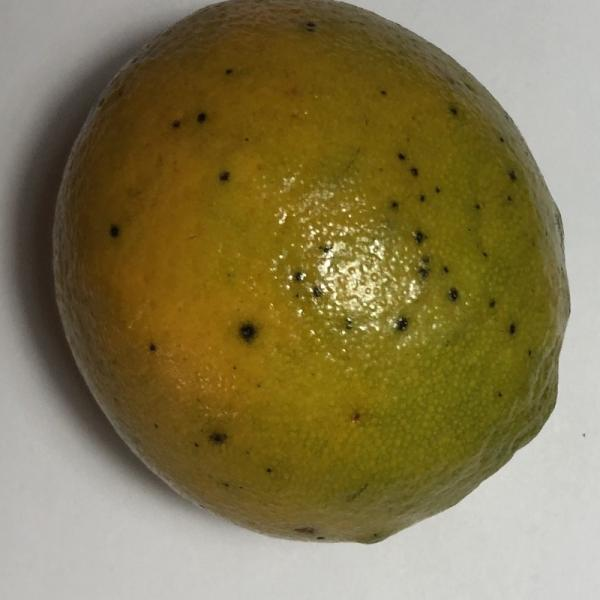Machas negras: (35, 0, 580, 566)
